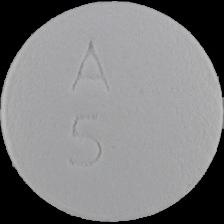10544-499: (0, 0, 224, 224)
